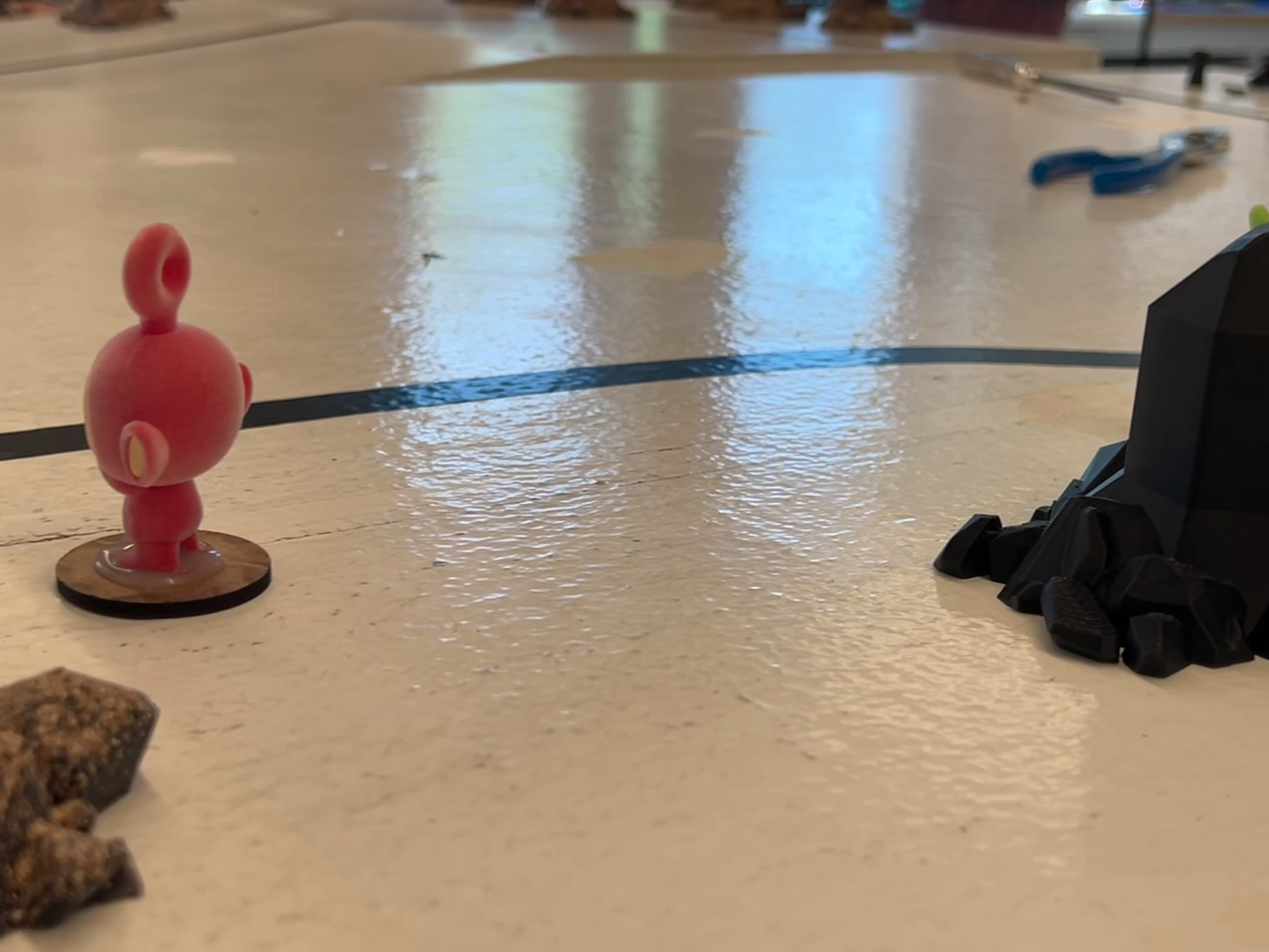teletubby: (85, 223, 252, 574), (1249, 204, 1268, 229)
